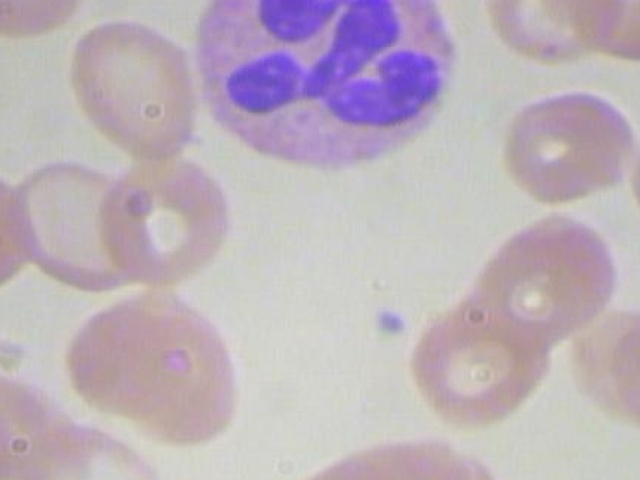Platelets: (364, 302, 412, 345)
RBC: (54, 13, 205, 168), (462, 209, 624, 352), (404, 282, 566, 425), (98, 142, 238, 287), (497, 77, 640, 211), (0, 358, 89, 480), (483, 0, 627, 66), (0, 159, 47, 293), (571, 0, 640, 66), (604, 315, 640, 436), (0, 0, 90, 38), (627, 99, 640, 233)
WBC: (170, 0, 461, 184)
